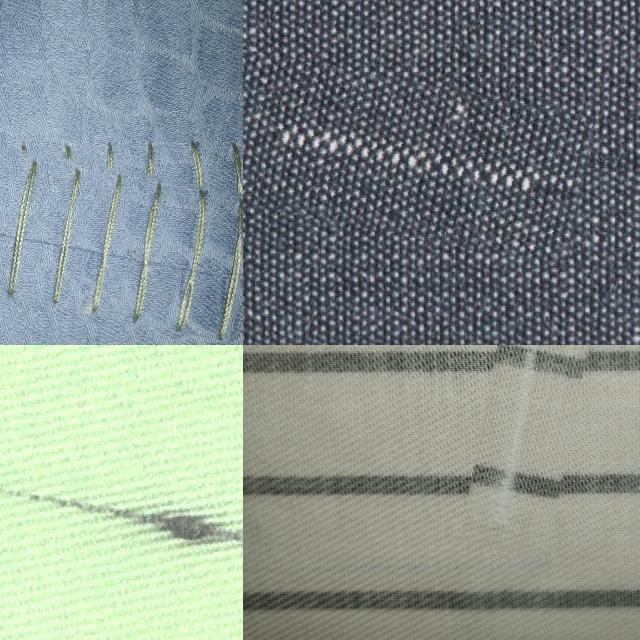Thread_out: (0, 108, 243, 314)
stains: (0, 345, 243, 640), (243, 63, 590, 250), (479, 345, 608, 556)
